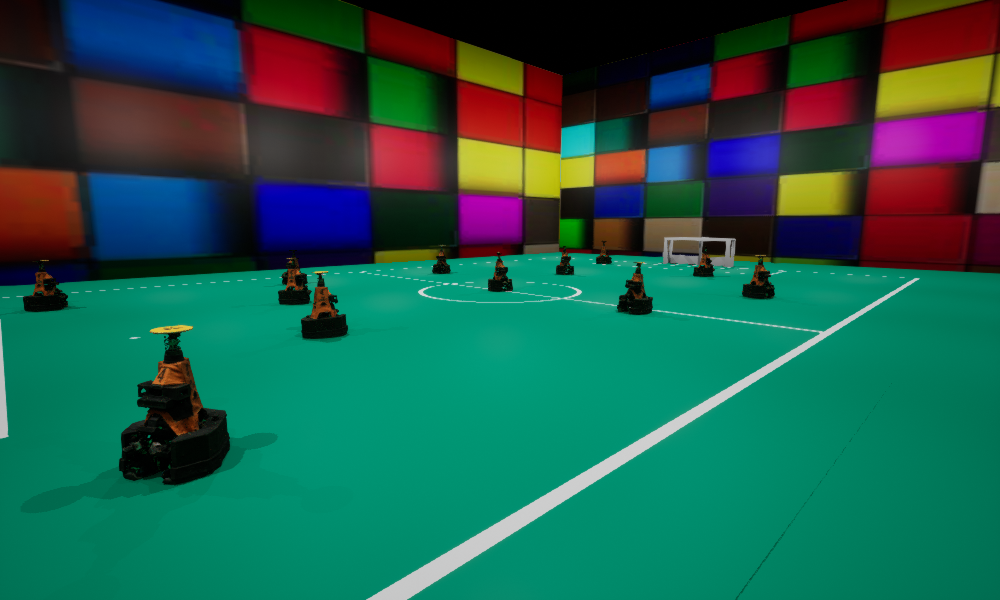0 orange robot TechUnited: (119, 325, 229, 483), (301, 271, 347, 338), (23, 260, 67, 311), (617, 262, 652, 314), (278, 258, 311, 304), (742, 255, 774, 298), (488, 252, 512, 291), (281, 250, 307, 283), (693, 246, 714, 276), (432, 245, 450, 273), (556, 246, 573, 274), (596, 241, 611, 263)
